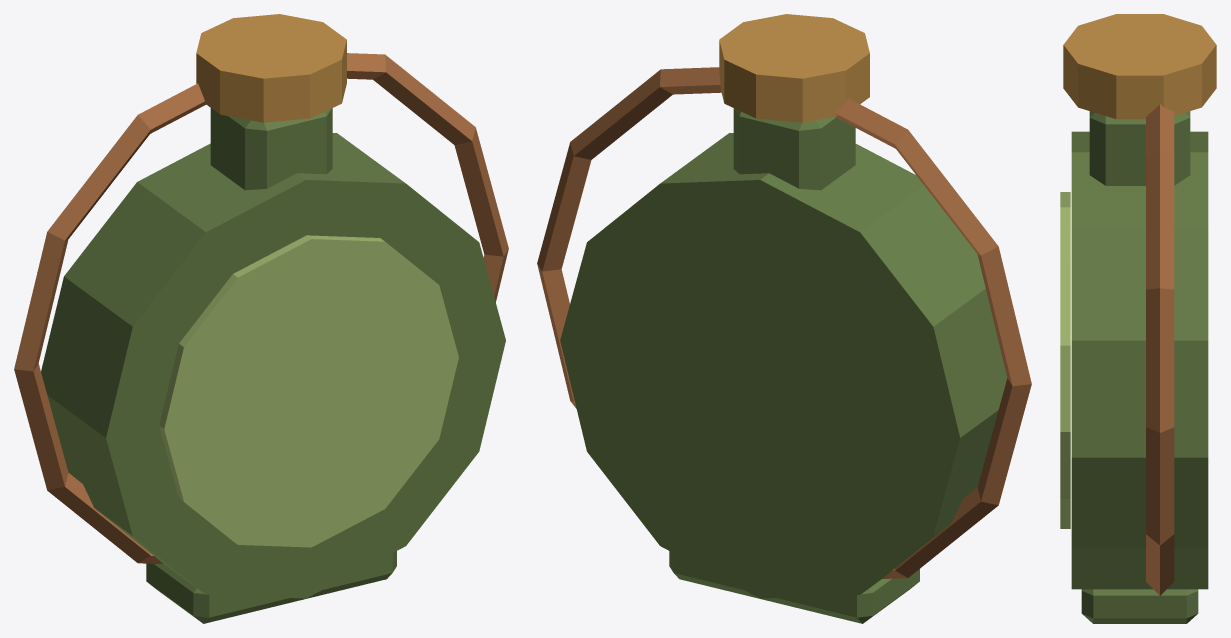
Rendered from 10_Trail_Canteen.glb.
3 renders of one model, left to right at view 1: azimuth 30°, elevation 25°; view 2: azimuth 150°, elevation 25°; view 3: azimuth 270°, elevation 25°, orthographic.
Parts seen in each view (by area): view 1: 10_Trail_Canteen__Body; view 2: 10_Trail_Canteen__Body; view 3: 10_Trail_Canteen__Body.
Part boxes in pixels (x1,y1,x2,y2): 10_Trail_Canteen__Body: (14, 14, 508, 623); 10_Trail_Canteen__Body: (537, 14, 1031, 623); 10_Trail_Canteen__Body: (1060, 14, 1216, 623).
Bounding box in the file's own units: 1.41 × 1.46 × 0.3875.
Materials: 1 (1 with a texture image).
